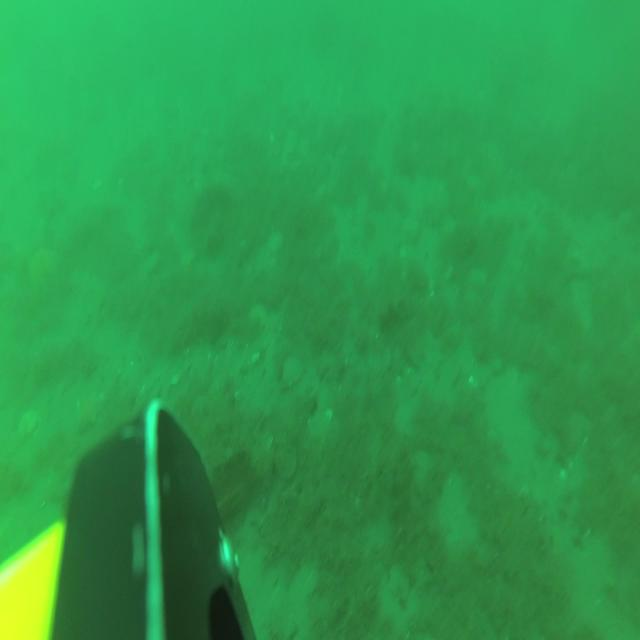scallop: (275, 440, 299, 480), (281, 353, 303, 392)
starfish: (26, 241, 64, 290)
